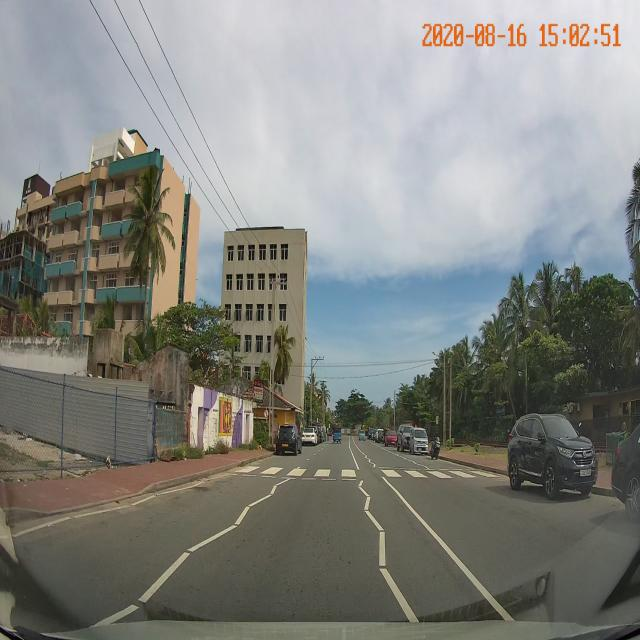Crosswalk: (218, 464, 509, 482)
